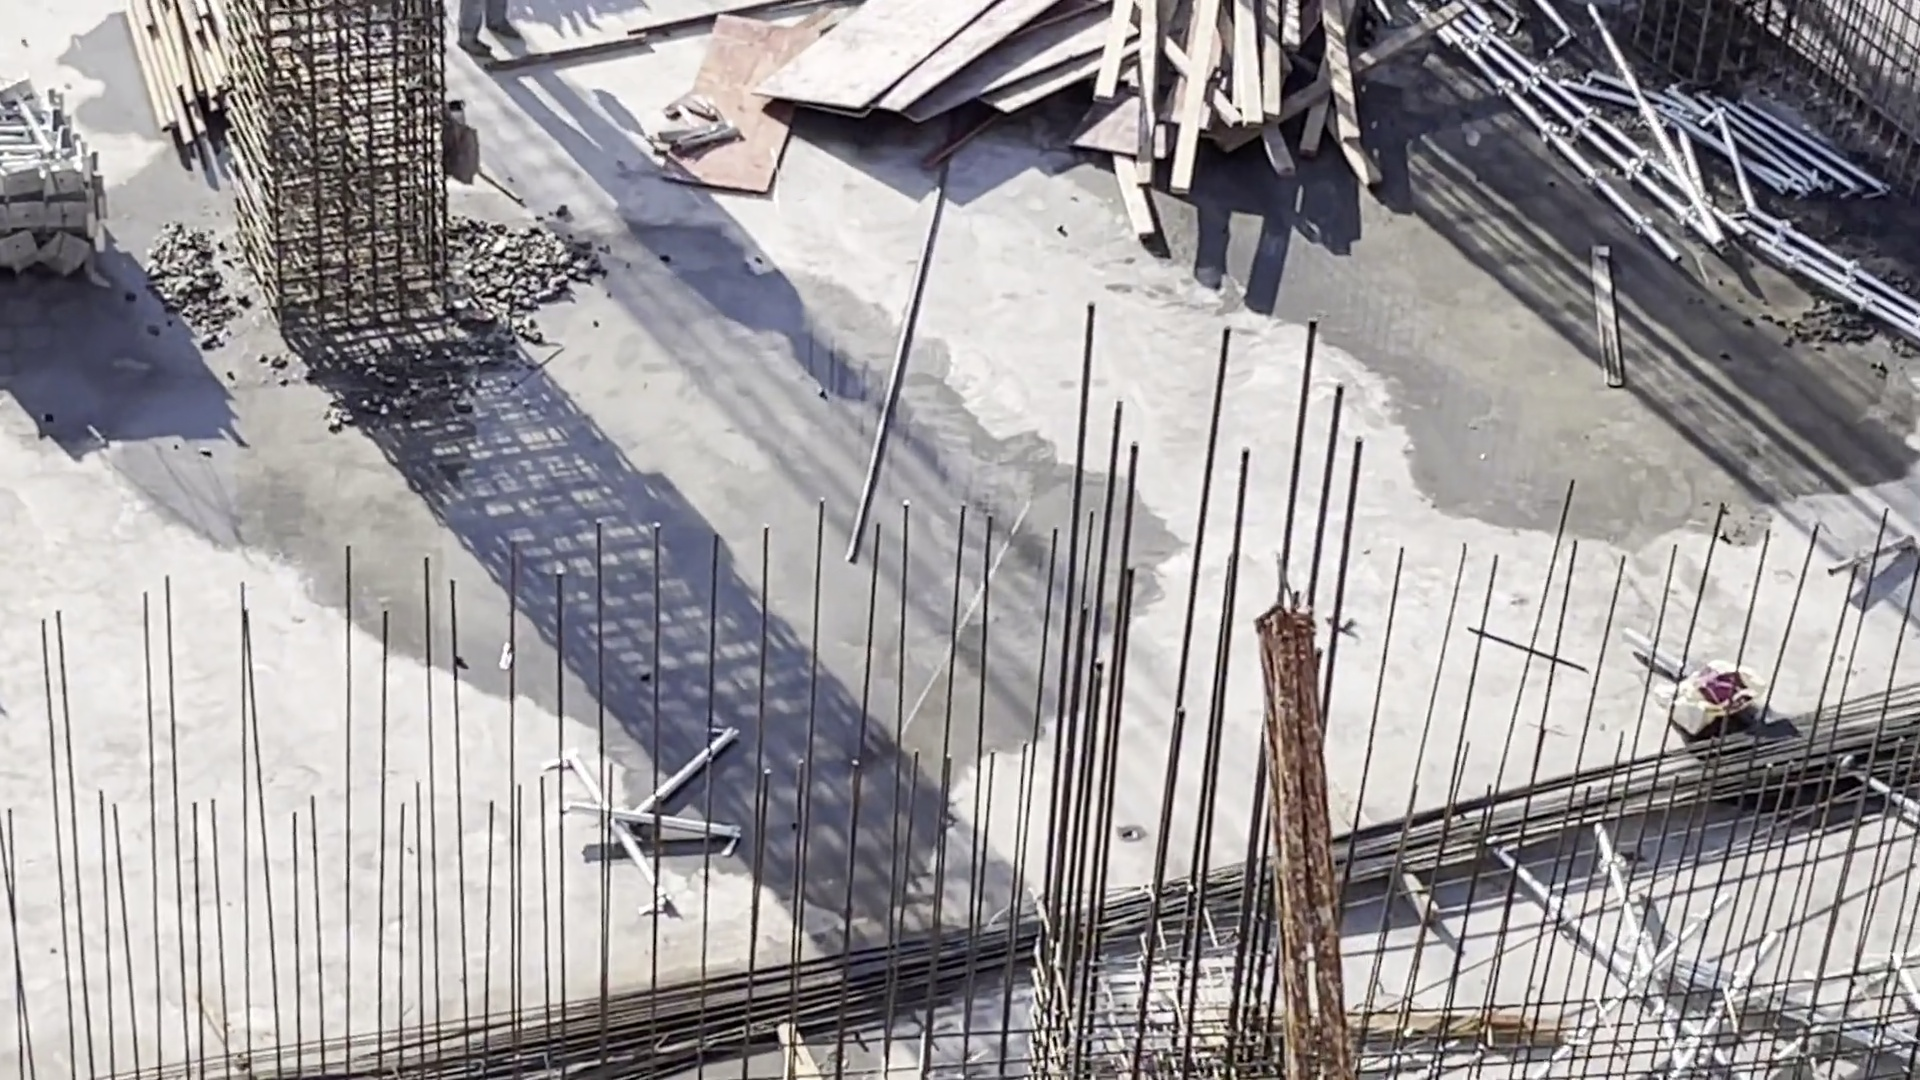board: (761, 1, 1114, 131)
rebar: (340, 707, 1896, 1080)
scaffold: (1633, 70, 1844, 231), (1, 94, 128, 289)
wood: (1106, 1, 1371, 193)
